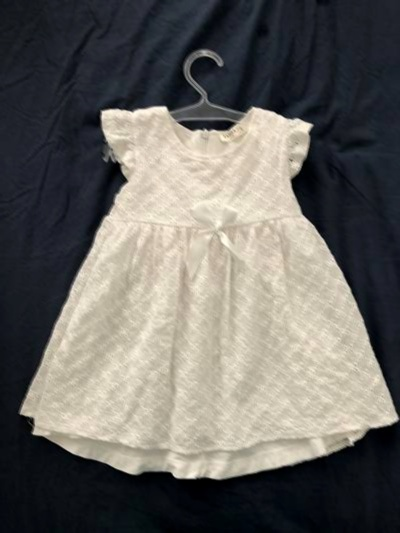Dress: (22, 77, 395, 488)
